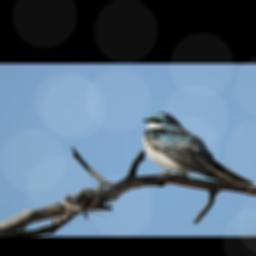Swallow: (140, 110, 254, 186)
